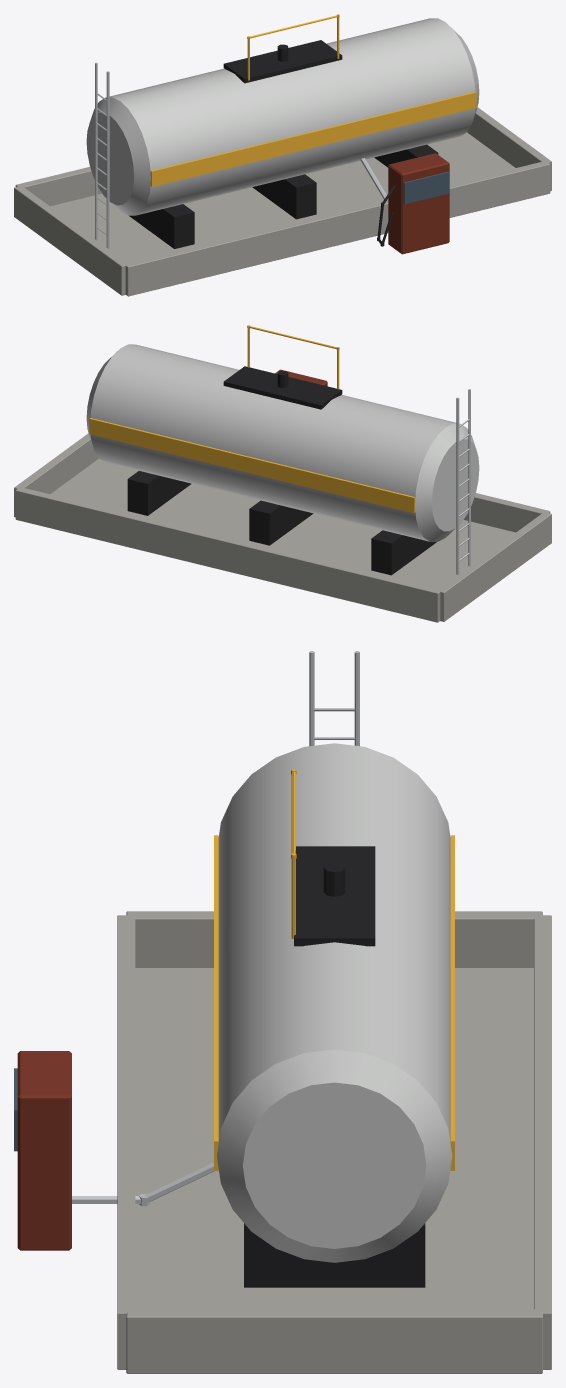
The model's file is fuel_tank.glb.
3 renders of one model, top to bottom at view 1: azimuth 30°, elevation 25°; view 2: azimuth 150°, elevation 25°; view 3: azimuth 270°, elevation 25°, orthographic. The views are drawn at different scales.
Visible parts, largest first — view 1: Body_LOD0; view 2: Body_LOD0; view 3: Body_LOD0.
Boxes of the visible parts, left/top/right/bottom form: Body_LOD0: left=14, top=14, right=551, bottom=296; Body_LOD0: left=14, top=325, right=551, bottom=622; Body_LOD0: left=14, top=651, right=551, bottom=1373.
Bounding box in the file's own units: 10.6 × 4.38 × 5.94.
